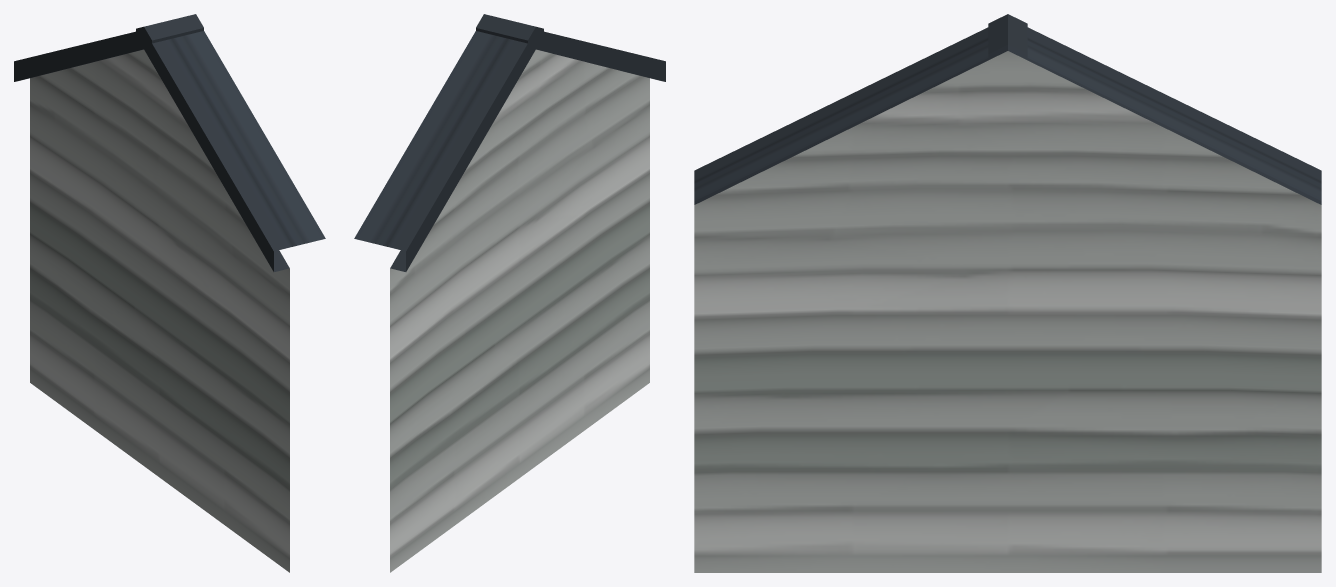
Rendered from SM_Bld_House_Roof_EndCap_TopShort_01.fbx.
The picture shows the model from 3 angles, left to right: view 1: azimuth 30°, elevation 25°; view 2: azimuth 150°, elevation 25°; view 3: azimuth 270°, elevation 25°; orthographic projection. The views are drawn at different scales.
Parts seen in each view (by area): view 1: SM_Bld_House_Roof_EndCap_TopShort_01; view 2: SM_Bld_House_Roof_EndCap_TopShort_01; view 3: SM_Bld_House_Roof_EndCap_TopShort_01.
Boxes of the visible parts, bbox=[...] form: SM_Bld_House_Roof_EndCap_TopShort_01: bbox=[14, 14, 325, 572]; SM_Bld_House_Roof_EndCap_TopShort_01: bbox=[354, 14, 665, 572]; SM_Bld_House_Roof_EndCap_TopShort_01: bbox=[694, 14, 1321, 572].
Bounding box in the file's own units: 28.91 × 242 × 250.
